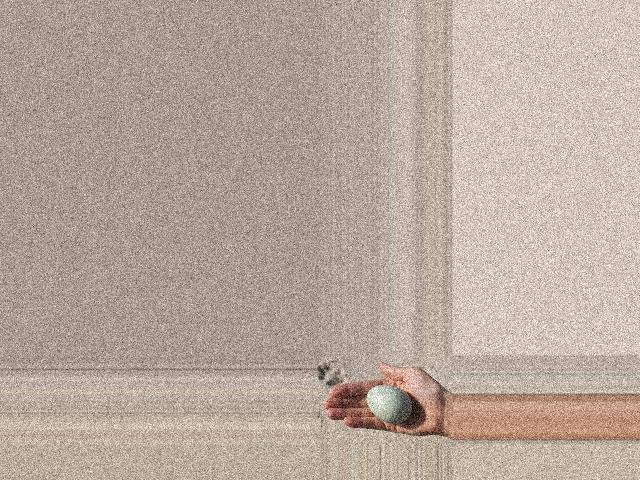egg: (365, 385, 410, 423)
